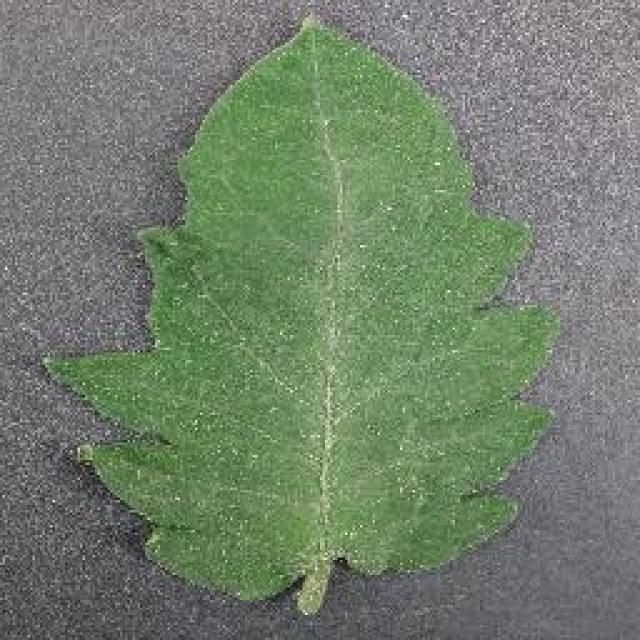Healthy: (38, 2, 578, 638)
